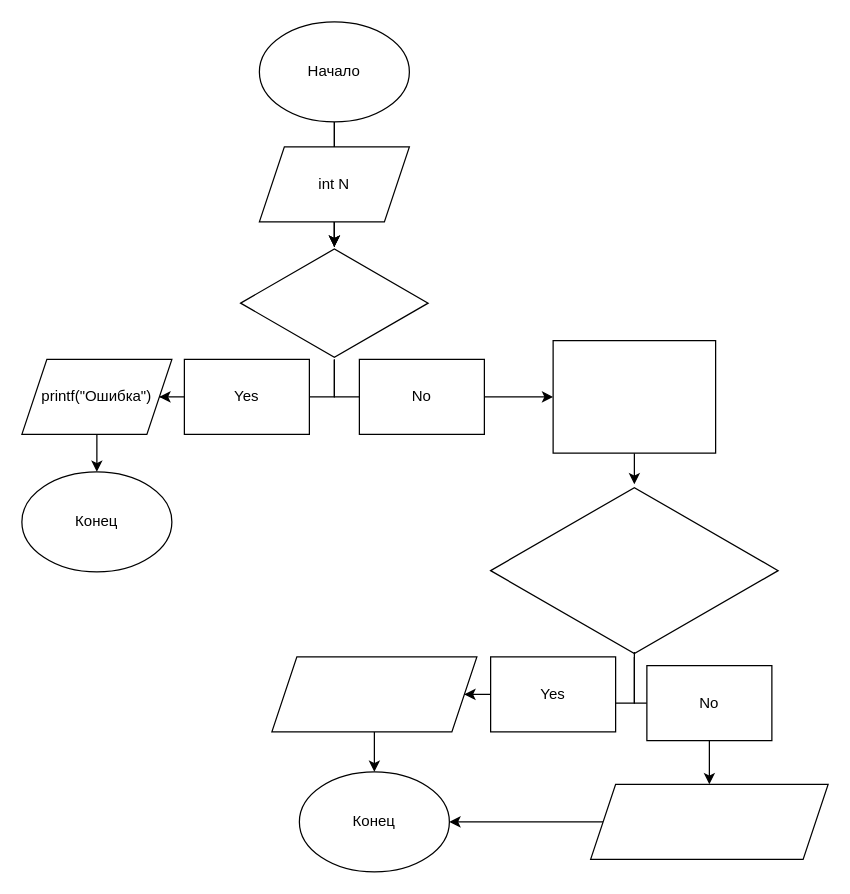
Some shapes in this 850 by 894 pixel diagram are drawn without their labels. The shapes that lost their labels are listed below. From the top down, each one's centre as x and y in pixels, then its label:
pixel 333 302: if (N >= 1000)
pixel 634 396: int digit1 = N % 10; int digit2 = (N / 10) % 10; int digit3 = N / 100;
pixel 633 570: if (digit1 == 5 || digit2 == 5 || digit3 == 5)
pixel 374 694: printf("Цифра 5 входит")
pixel 708 821: printf("Цифра 5 НЕ входит")
